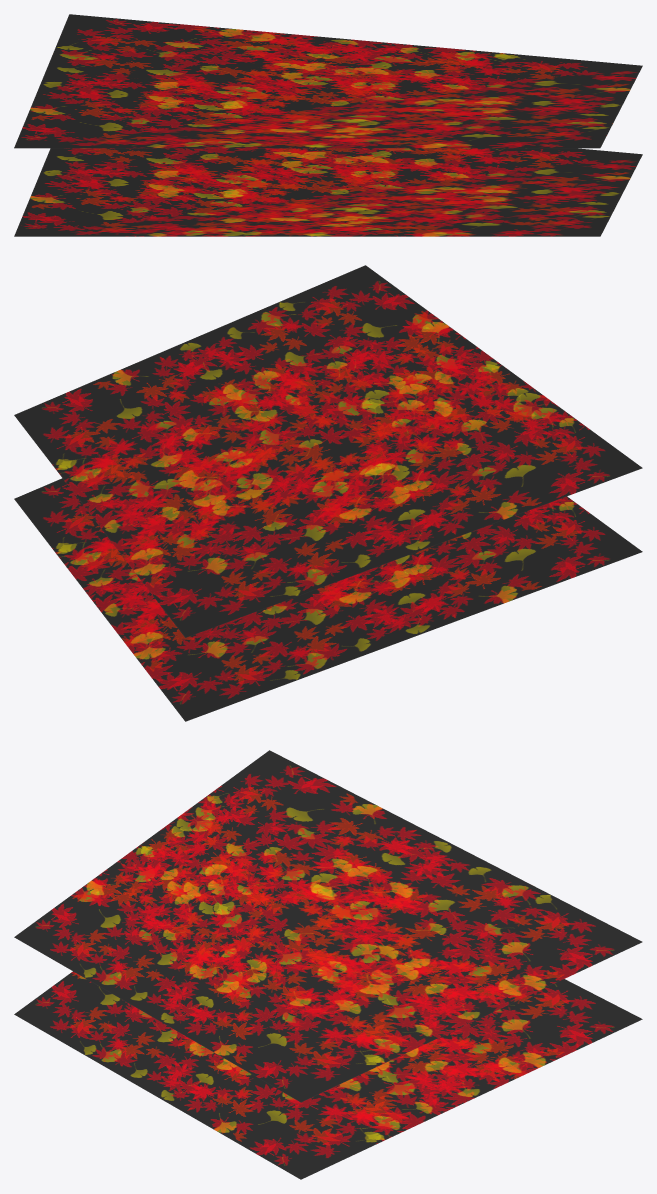
The model's file is OBJ_CourseAki_CurveFloor_1_6.fbx.
3 views of the same model, one above another, from view 1: azimuth 30°, elevation 25°; view 2: azimuth 150°, elevation 25°; view 3: azimuth 270°, elevation 25° (orthographic). The views are drawn at different scales.
Visible parts, largest first — view 1: polySurface26, polySurface27; view 2: polySurface26, polySurface27; view 3: polySurface26, polySurface27.
Part boxes in pixels (box(x1,y1,x2,y2)): polySurface26: box(14, 14, 642, 148); polySurface27: box(14, 148, 642, 236); polySurface26: box(14, 265, 642, 637); polySurface27: box(14, 478, 642, 721); polySurface26: box(14, 750, 642, 1102); polySurface27: box(14, 971, 642, 1179).
Bounding box in the file's own units: 7.64 × 2 × 7.38.
Materials: 1 (1 with a texture image).
